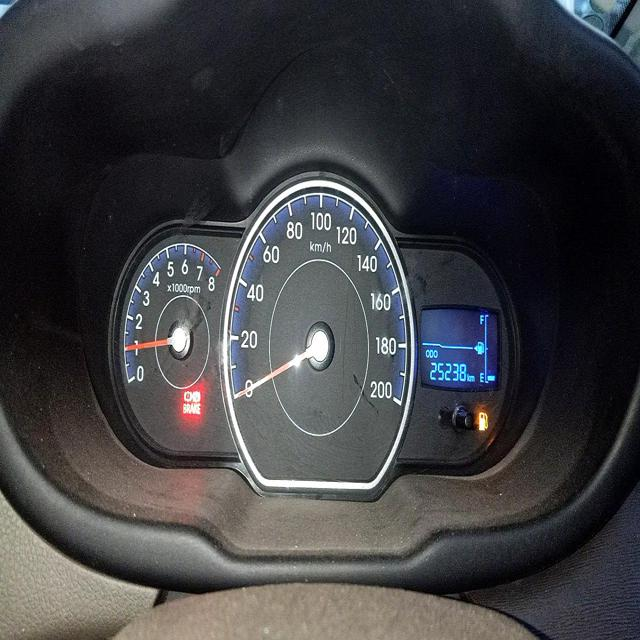odometer: (429, 359, 466, 385)
